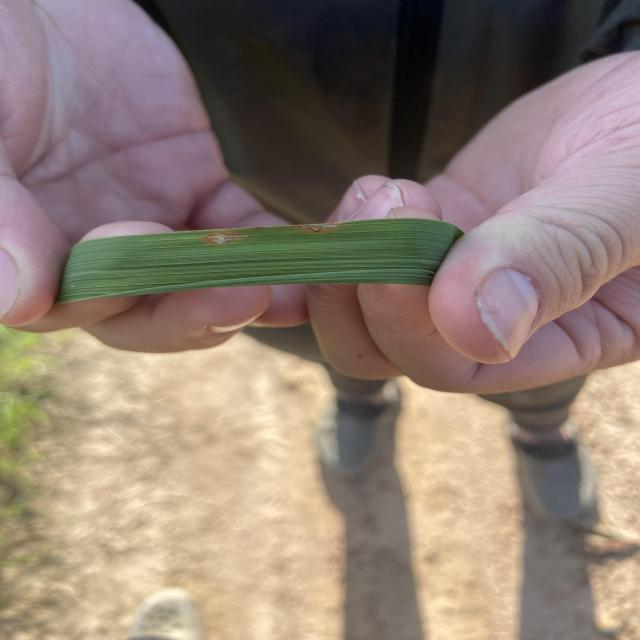Dao on: (202, 232, 248, 244), (297, 223, 339, 232)
